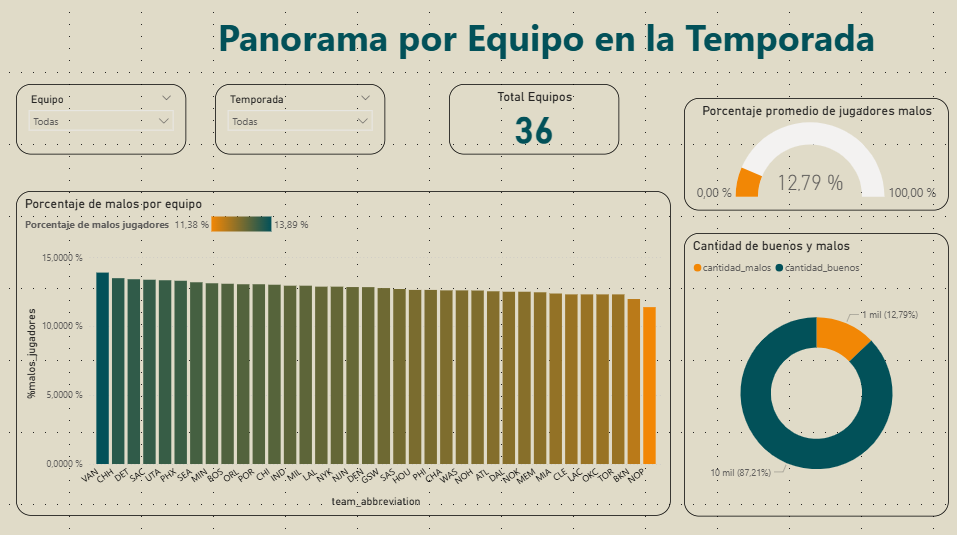

What the dashboard file says about the page in this screenshot:
{"tool":"powerbi","page":{"name":"Equipo","canvas":[1280,720],"ordinal":2},"visuals":[{"type":"slicer","fields":{"Values":["nba_puntaje_vara.season"]},"box":[290,112.2,226.7,94.4],"z":0},{"type":"slicer","fields":{"Values":["nba_puntaje_vara.team_abbreviation"]},"box":[25.6,112.2,226.7,94.4],"z":1000},{"type":"clusteredColumnChart","title":"Porcentaje de malos por equipo","fields":{"Category":["nba_puntaje_vara.team_abbreviation"],"Y":["Medidas.%malos_jugadores"]},"box":[25.6,254.4,873.3,433.3],"z":2000},{"type":"card","title":"Total Equipos","fields":{"Values":["Count(nba_puntaje_vara.team_abbreviation)"]},"box":[602.2,112.2,226.7,94.4],"z":3000},{"type":"gauge","title":"Porcentaje promedio de jugadores malos","fields":{"Y":["Medidas.%malos_jugadores"]},"box":[915.6,131.1,353.3,150],"z":4000},{"type":"donutChart","title":"Cantidad de buenos y malos","fields":{"Y":["Medidas.cantidad_malos","Medidas.cantidad_buenos"]},"box":[915.6,310,353.3,377.8],"z":5000},{"type":"textbox","box":[289.5,10.9,938.6,77.2],"z":6000}]}

Visuals, with their boxes in screenshot pixels (x1, y1, x2, y2), scaled from the page's 1280x720 canvas onto the 957x535 screenshot:
slicer - nba_puntaje_vara.season: bbox=[217, 83, 386, 154]
slicer - nba_puntaje_vara.team_abbreviation: bbox=[19, 83, 189, 154]
"Porcentaje de malos por equipo" clusteredColumnChart: bbox=[19, 189, 672, 511]
"Total Equipos" card: bbox=[450, 83, 620, 154]
"Porcentaje promedio de jugadores malos" gauge: bbox=[685, 97, 949, 209]
"Cantidad de buenos y malos" donutChart: bbox=[685, 230, 949, 511]
textbox: bbox=[216, 8, 918, 65]
